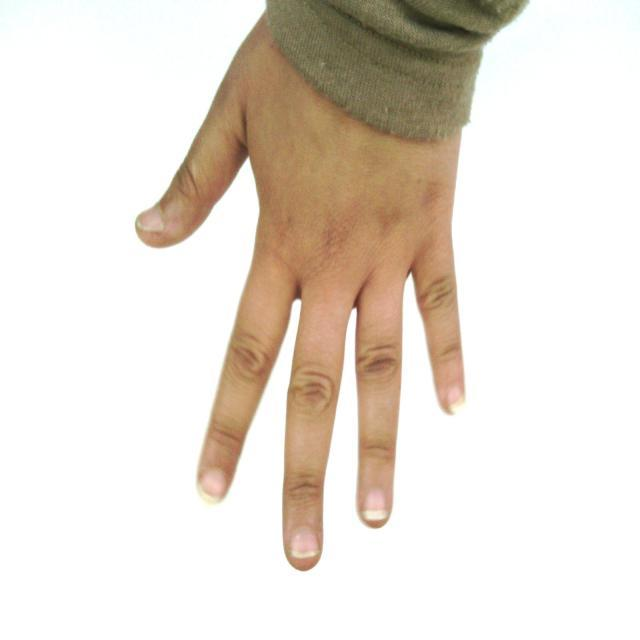Fingernail: (201, 470, 226, 503), (362, 489, 387, 520), (292, 531, 318, 557), (138, 206, 163, 232), (445, 387, 463, 412)
